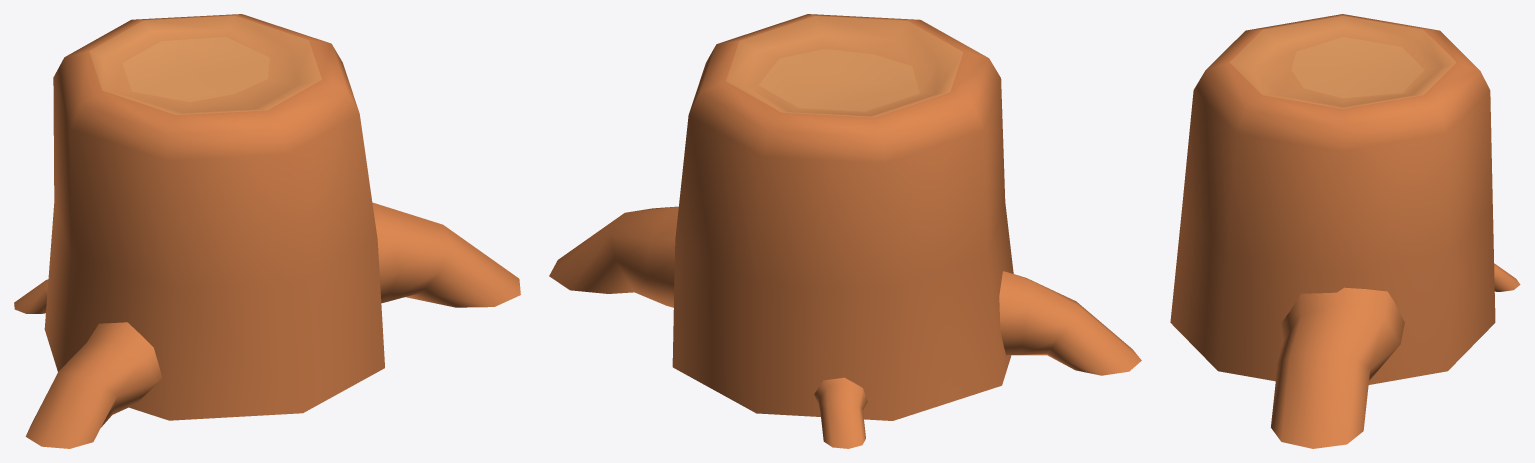
Rendered from tree trunk 02_toon_material_0.001.glb.
The picture shows the model from 3 angles, left to right: view 1: azimuth 30°, elevation 25°; view 2: azimuth 150°, elevation 25°; view 3: azimuth 270°, elevation 25°; orthographic projection. The views are drawn at different scales.
Visible parts, largest first — view 1: tree trunk 02_toon_material_0.001; view 2: tree trunk 02_toon_material_0.001; view 3: tree trunk 02_toon_material_0.001.
Part boxes in pixels (box(x1,y1,x2,y2)): tree trunk 02_toon_material_0.001: box(14, 14, 520, 448); tree trunk 02_toon_material_0.001: box(549, 14, 1141, 448); tree trunk 02_toon_material_0.001: box(1170, 14, 1520, 448).
Bounding box in the file's own units: 1.37 × 0.7012 × 0.8541.
1 material, 1 textured.
